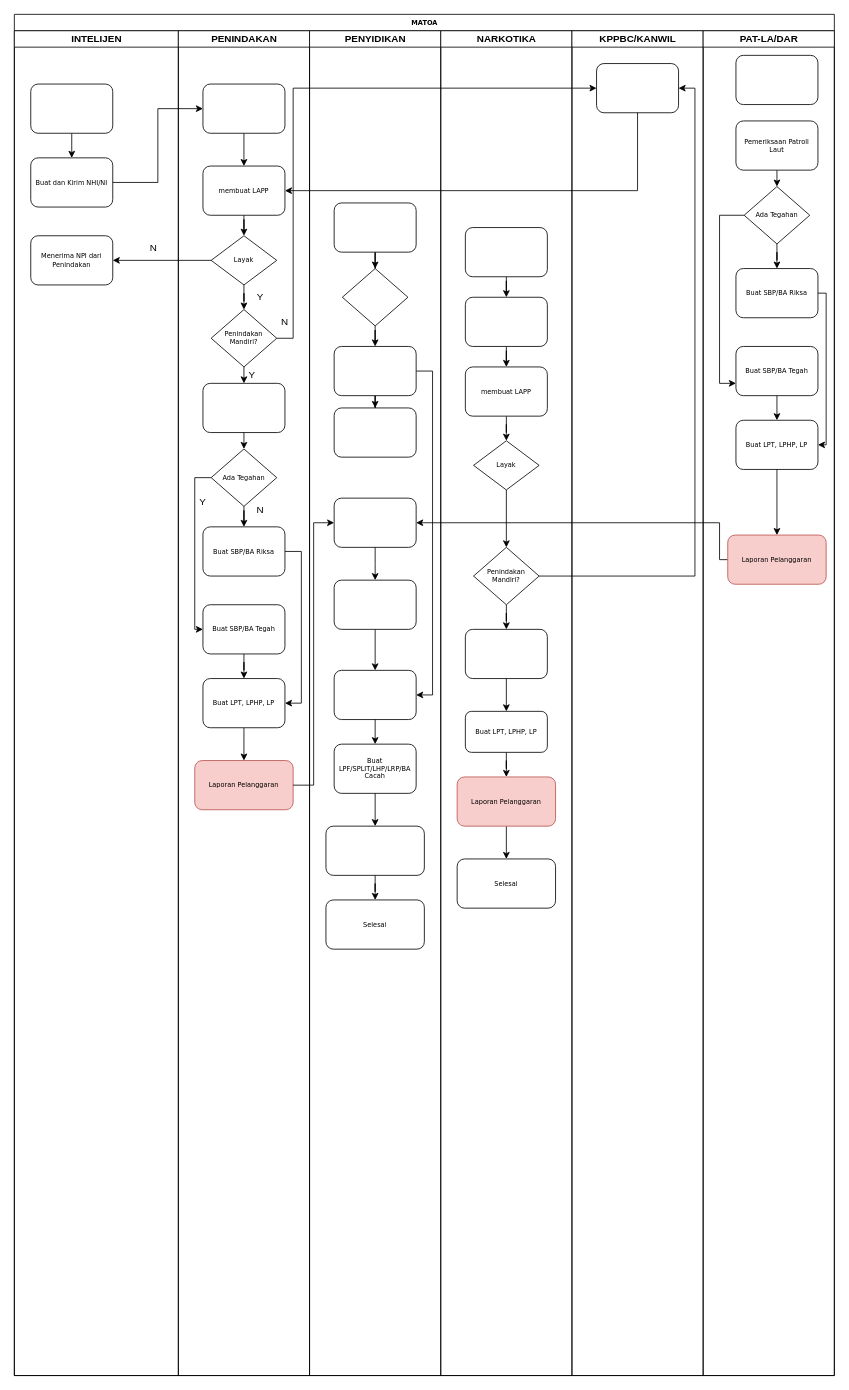
Image size: 849x1390. Some labels were removed from this diagram. Each missing label, with the centre of its shape:
Buat dan Kirim NHI/NI (N): the point at 506,321
Buat LP-1: the point at 374,432
Buat LPP Eksternal: the point at 374,371
Buat LPP Internal: the point at 374,604
Buat SBP/BA Tegah/BA Pemeriksaan dan BA Serah terima (N): the point at 506,654
Buat SPRINT-> Nadine: the point at 243,408
Data LPP All: the point at 374,695
External: the point at 375,297
LRP: the point at 374,850
Menerima LP dari penindakan: the point at 374,522
Menerima MPP: the point at 637,88
menerima NHI/NI: the point at 243,108
Penerimaan Perkara: the point at 374,227
SPRINT: the point at 776,80
STI/LPTI/LPPI/LKAI: the point at 71,108
STI/LPTI/LPPI/LKAI (N): the point at 506,252
